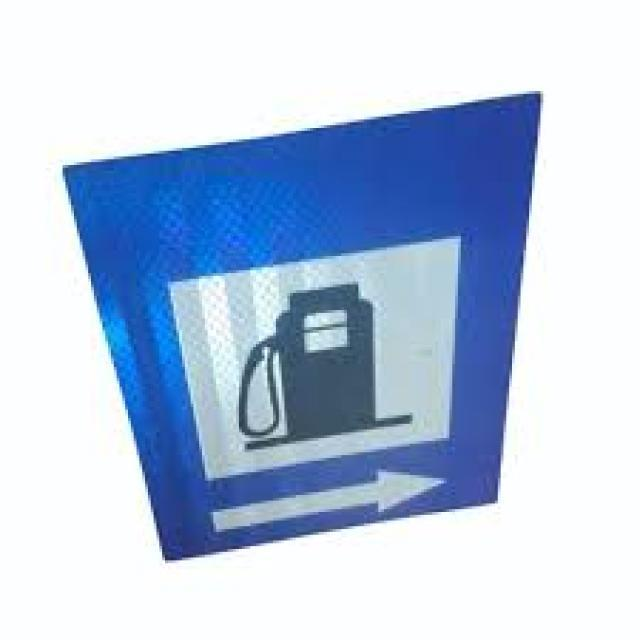petrol pump ahead: (149, 155, 508, 559)
